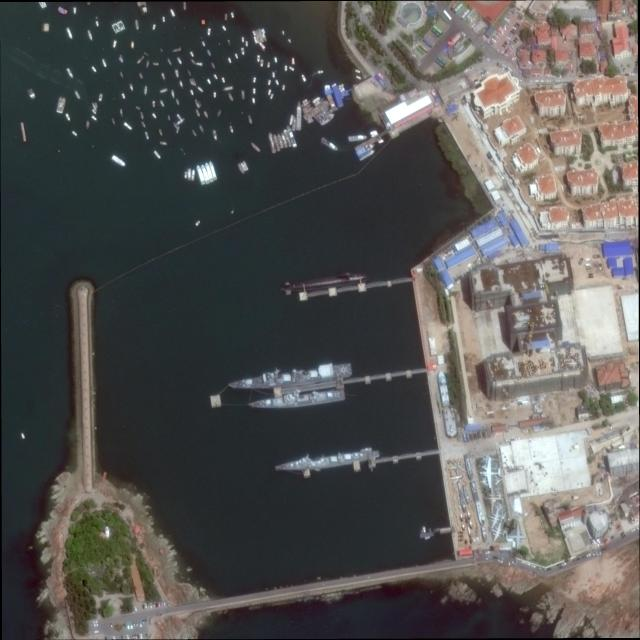large-vehicle: (443, 10, 452, 20), (433, 25, 442, 34), (423, 38, 432, 47), (419, 43, 428, 52), (454, 3, 463, 12), (462, 9, 470, 19), (431, 28, 440, 36), (452, 0, 460, 9), (417, 47, 425, 55), (438, 57, 446, 64), (436, 60, 444, 67)
plane: (480, 456, 502, 488), (505, 523, 527, 551), (484, 485, 504, 515), (487, 520, 508, 544), (485, 507, 506, 530), (501, 516, 518, 537)
ship: (228, 363, 352, 394), (275, 447, 380, 475), (281, 270, 371, 296), (248, 388, 345, 411), (437, 371, 451, 407), (443, 409, 458, 438), (320, 136, 339, 152), (356, 142, 376, 157), (475, 501, 486, 526), (316, 108, 334, 123), (464, 454, 474, 480), (286, 125, 297, 148), (313, 106, 330, 120), (320, 112, 336, 126), (358, 148, 375, 161), (196, 164, 206, 185), (470, 481, 480, 502), (268, 132, 277, 154), (283, 129, 293, 148), (209, 160, 218, 181), (112, 156, 127, 168), (201, 164, 210, 184), (205, 162, 214, 182), (56, 97, 66, 114), (296, 102, 302, 130), (276, 132, 285, 149), (280, 132, 289, 148), (273, 134, 281, 152), (116, 20, 126, 32), (314, 97, 326, 107), (348, 136, 367, 142), (250, 142, 261, 152), (481, 527, 488, 542), (303, 105, 314, 114), (66, 27, 73, 40), (136, 55, 145, 65), (258, 28, 264, 43), (112, 23, 120, 34), (28, 88, 36, 99), (176, 117, 186, 125), (66, 68, 74, 78), (123, 122, 133, 130), (302, 103, 312, 111), (301, 100, 311, 108), (238, 163, 245, 174), (292, 116, 297, 131), (255, 30, 261, 42), (74, 90, 81, 100), (87, 30, 94, 40), (242, 161, 249, 171), (240, 162, 247, 172), (154, 150, 161, 159), (312, 96, 321, 103), (228, 92, 234, 102), (213, 130, 218, 142), (92, 102, 98, 111), (188, 168, 192, 181), (195, 99, 200, 109), (224, 86, 234, 91), (135, 20, 140, 30), (289, 115, 294, 125), (259, 42, 266, 49), (170, 9, 176, 17), (177, 57, 183, 65), (65, 113, 71, 121), (191, 169, 195, 181), (301, 74, 307, 82), (204, 110, 209, 119), (196, 108, 201, 117), (160, 99, 165, 108), (145, 131, 150, 140), (248, 115, 253, 124), (262, 33, 267, 42), (152, 112, 158, 119), (198, 86, 204, 93), (176, 113, 182, 120), (91, 115, 98, 121), (175, 98, 180, 106), (161, 72, 166, 80), (160, 88, 168, 93), (199, 124, 204, 132), (217, 109, 222, 117), (173, 48, 181, 53), (192, 78, 197, 86), (229, 125, 234, 133), (95, 17, 99, 27), (102, 59, 107, 67), (119, 71, 124, 79), (129, 83, 134, 91), (144, 85, 148, 95), (139, 72, 144, 80), (241, 90, 245, 100), (171, 89, 175, 98), (195, 220, 201, 226), (175, 69, 179, 78), (99, 93, 103, 102), (120, 54, 124, 63), (192, 130, 197, 137), (167, 58, 172, 65), (211, 62, 216, 69), (187, 69, 192, 76), (207, 50, 212, 57), (207, 78, 212, 85), (92, 66, 97, 73), (142, 121, 147, 128), (152, 100, 156, 108), (176, 126, 180, 134), (160, 142, 168, 146), (113, 40, 117, 48), (146, 60, 150, 68), (120, 108, 124, 116), (86, 121, 90, 129), (241, 47, 245, 55), (179, 81, 184, 87), (191, 59, 197, 64), (222, 25, 227, 31), (190, 51, 195, 57), (72, 131, 78, 136), (121, 93, 126, 99), (331, 83, 337, 88), (356, 75, 362, 80), (355, 69, 361, 74), (308, 119, 314, 124), (252, 30, 257, 36), (275, 79, 280, 85), (289, 66, 295, 71), (231, 12, 235, 19), (190, 79, 194, 86), (214, 73, 218, 80), (152, 24, 156, 31), (112, 118, 116, 125), (198, 100, 202, 107), (423, 527, 427, 534), (254, 36, 258, 43), (274, 56, 278, 63), (268, 89, 272, 96), (92, 109, 97, 114), (173, 122, 178, 127), (340, 88, 345, 93), (303, 99, 308, 104), (208, 28, 211, 36), (228, 57, 232, 63), (202, 41, 206, 47), (222, 77, 226, 83), (131, 41, 134, 49), (21, 433, 25, 439), (159, 129, 163, 135), (338, 84, 344, 88), (228, 39, 232, 45), (253, 77, 257, 83), (252, 98, 256, 104), (260, 59, 263, 67), (235, 53, 239, 59), (270, 94, 274, 100), (318, 70, 324, 74), (141, 112, 144, 119), (257, 55, 260, 62), (225, 14, 228, 21), (292, 57, 295, 64), (136, 106, 141, 110), (339, 86, 344, 90), (288, 38, 292, 43), (191, 89, 194, 95), (168, 115, 171, 121), (95, 102, 98, 108), (253, 88, 256, 94), (267, 62, 270, 68), (272, 72, 275, 78), (285, 65, 288, 71), (184, 2, 186, 10), (185, 171, 187, 179), (282, 85, 285, 90), (268, 80, 271, 85), (214, 91, 216, 98), (74, 7, 76, 14), (163, 16, 165, 22), (246, 41, 248, 47), (242, 37, 244, 43), (283, 30, 285, 35)
